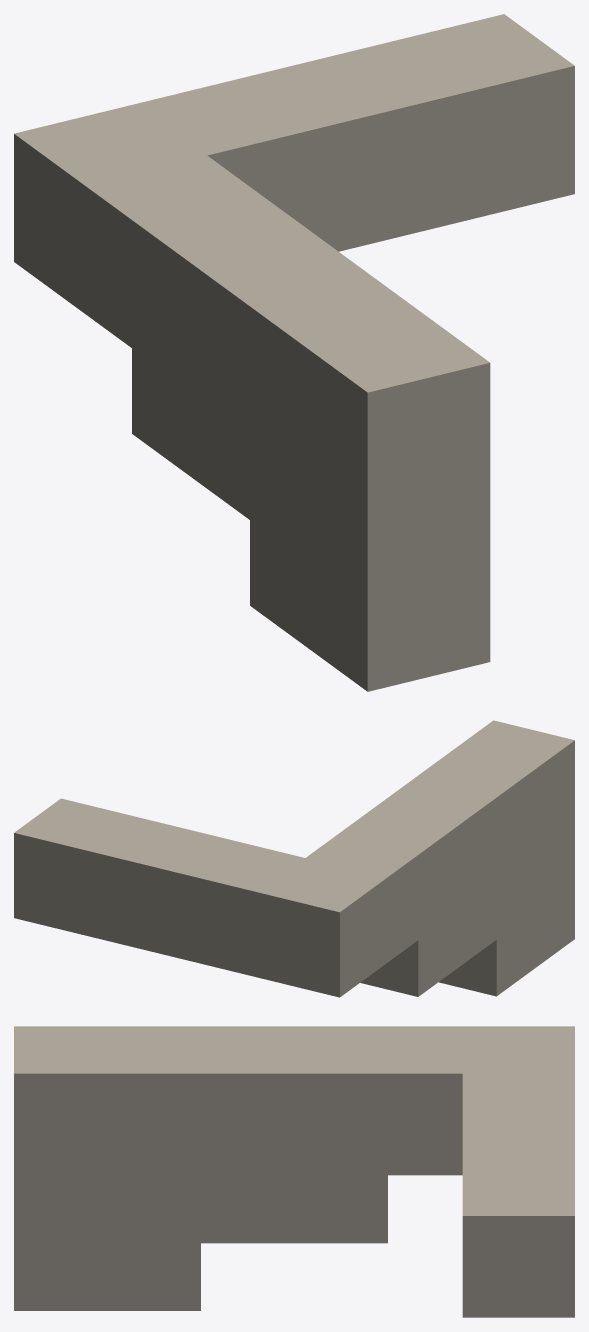
3 renders of one model, top to bottom at view 1: azimuth 30°, elevation 25°; view 2: azimuth 150°, elevation 25°; view 3: azimuth 270°, elevation 25°, orthographic. The views are drawn at different scales.
Parts seen in each view (by area): view 1: ContinuousLevelLReturnSteppedFooting; view 2: ContinuousLevelLReturnSteppedFooting; view 3: ContinuousLevelLReturnSteppedFooting.
Boxes of the visible parts, x1,y1,x2,y2 form: ContinuousLevelLReturnSteppedFooting: [14, 14, 574, 691]; ContinuousLevelLReturnSteppedFooting: [14, 720, 574, 997]; ContinuousLevelLReturnSteppedFooting: [14, 1026, 574, 1317].
Size of the model in its own units: 2.4 by 1.4 by 3.
